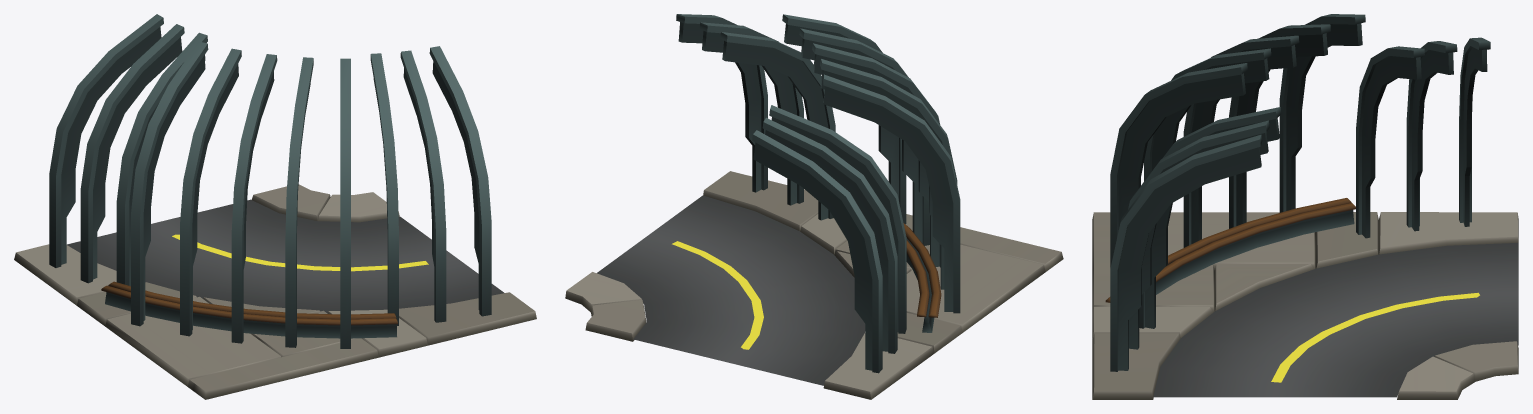
The model's file is Road_3Y_Special.fbx.
3 views of the same model, side by side, from view 1: azimuth 30°, elevation 25°; view 2: azimuth 150°, elevation 25°; view 3: azimuth 270°, elevation 25° (orthographic). The views are drawn at different scales.
Parts seen in each view (by area): view 1: Road_3Y_Special; view 2: Road_3Y_Special; view 3: Road_3Y_Special.
Boxes of the visible parts, bbox=[...] form: Road_3Y_Special: bbox=[14, 14, 536, 399]; Road_3Y_Special: bbox=[565, 14, 1063, 399]; Road_3Y_Special: bbox=[1092, 14, 1518, 399].
Bounding box in the file's own units: 1400 × 971 × 1400.
